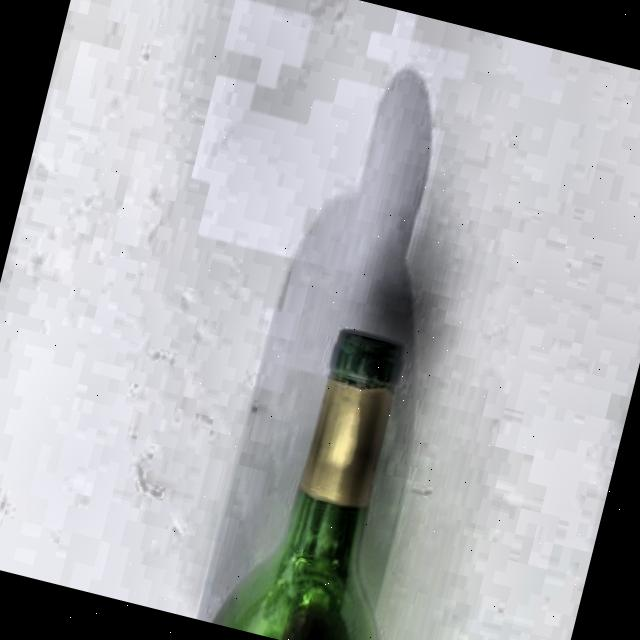glass: (214, 311, 465, 640)
